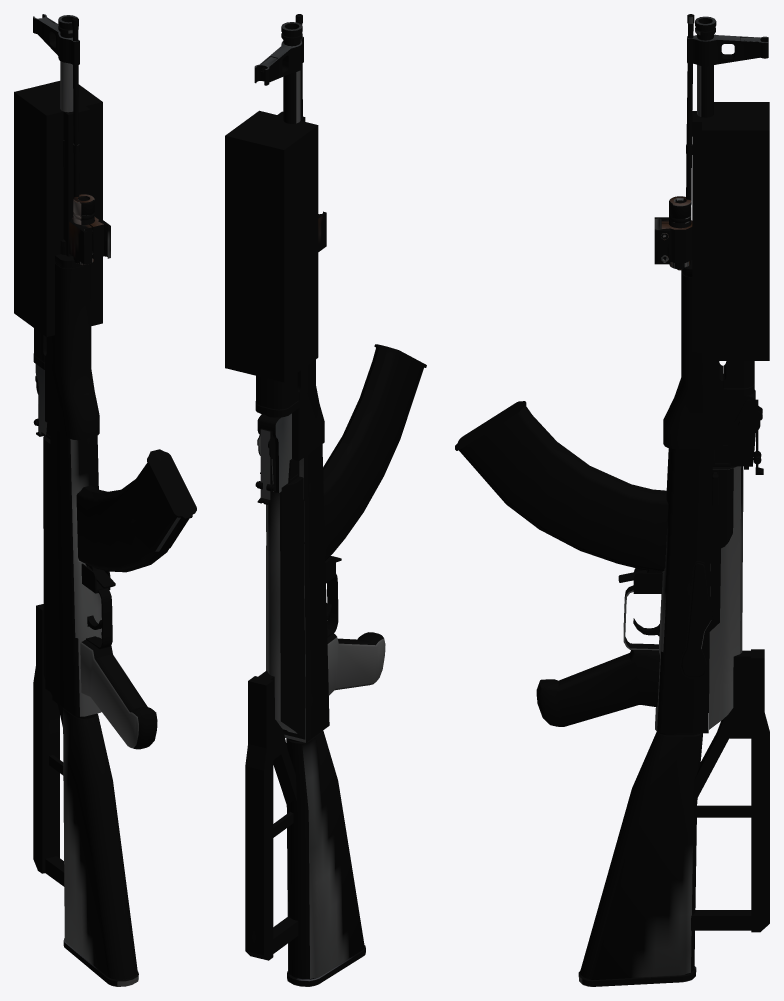
The model's file is AK47__Handguard_AK_Quad__Light_Pistol__Stock_AK_Folding.fbx.
3 views of the same model, side by side, from view 1: azimuth 30°, elevation 25°; view 2: azimuth 150°, elevation 25°; view 3: azimuth 270°, elevation 25° (orthographic). The views are drawn at different scales.
Parts seen in each view (by area): view 1: asset_AK47.001; view 2: asset_AK47.001; view 3: asset_AK47.001.
Part boxes in pixels (x1=…): asset_AK47.001: x1=14, y1=14, x2=196, y2=986; asset_AK47.001: x1=225, y1=14, x2=426, y2=986; asset_AK47.001: x1=455, y1=14, x2=769, y2=986.
Size of the model in its own units: 0.0336 by 0.528 by 0.1561.
